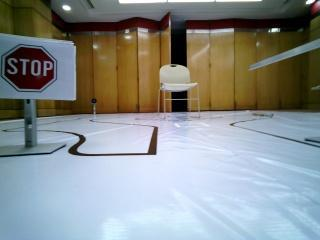stop: (2, 34, 75, 101)
